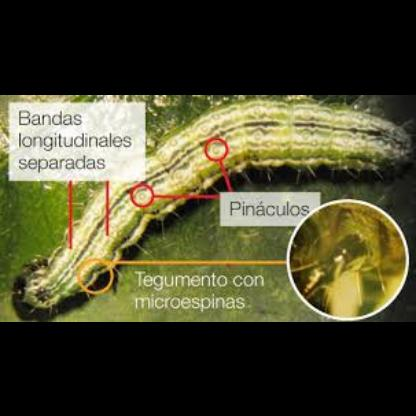oruga: (15, 106, 410, 316)
